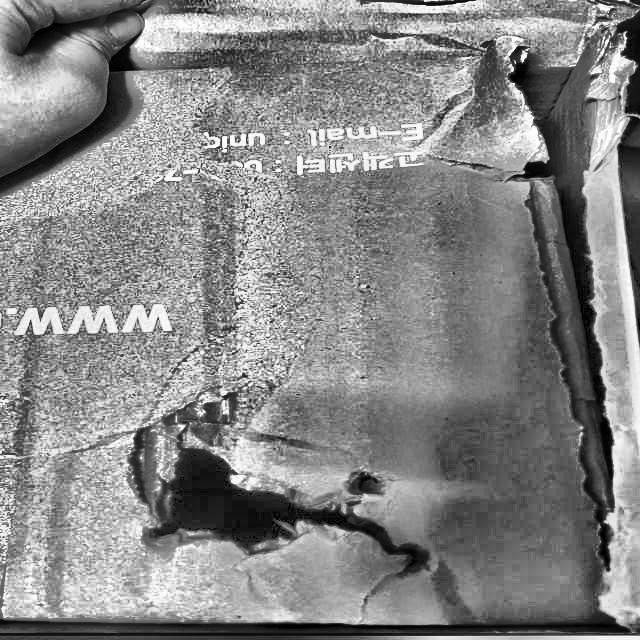box: (0, 0, 640, 640)
hole: (477, 23, 635, 516), (133, 445, 432, 559)
